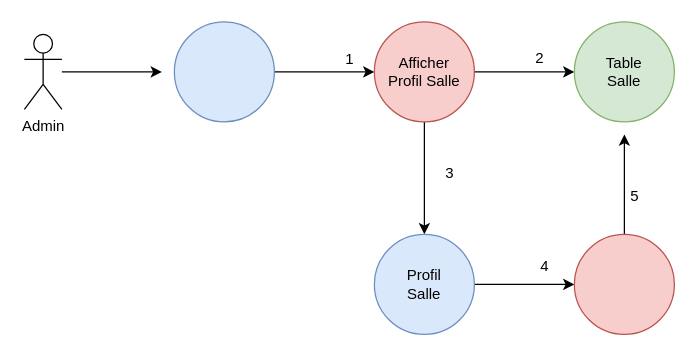
The diagram is 696 pixels wide and 356 high, and some of its shapes have lost their labels. The shapes that lost their labels are listed below. From the top down, each one's centre as x and y in pixels, then its label:
At (223,71): "Listes Salles".
At (623,283): "Modifier Profil Salle".
